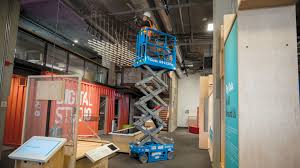Scissor Lift: (128, 26, 177, 164)
